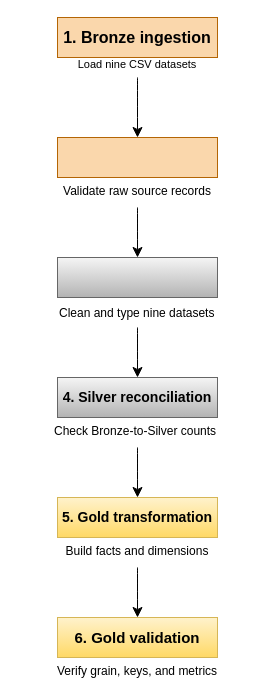
Image size: 274x696. Some labels were removed from this diagram. Here are the shapes that lost their labels. From the top down, the centre of each, then its label:
At point 137,157: "2. Bronze quality checks".
At point 137,277: "3. Silver transformation".
